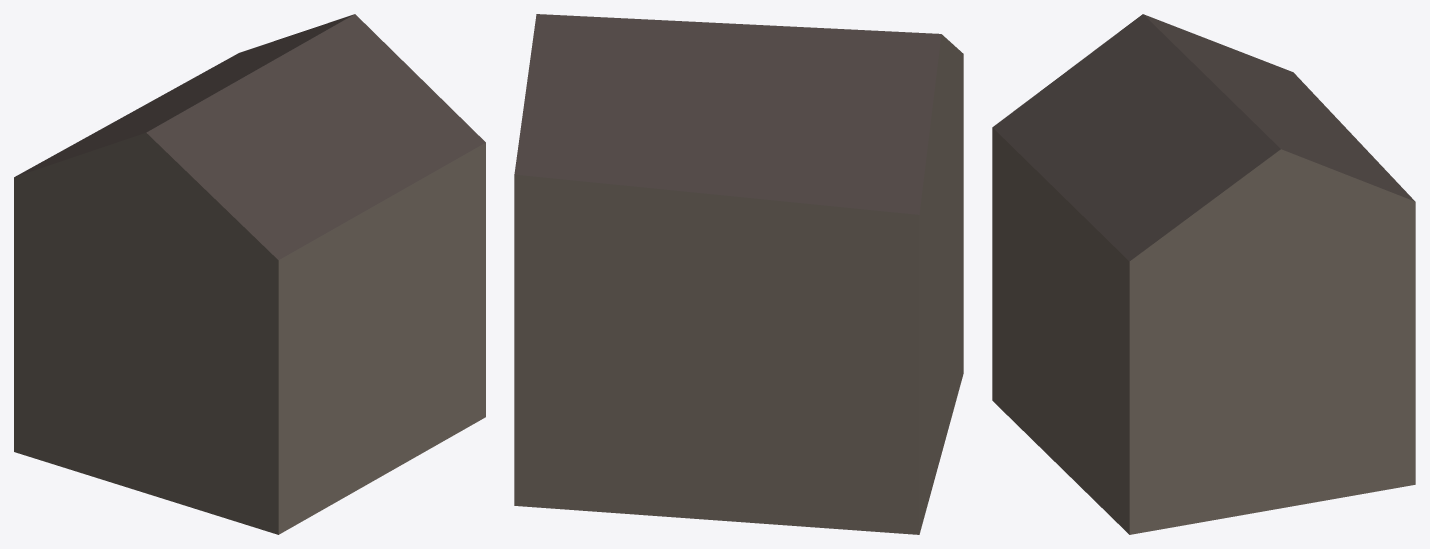
3 renders of one model, left to right at view 1: azimuth 30°, elevation 25°; view 2: azimuth 150°, elevation 25°; view 3: azimuth 270°, elevation 25°, orthographic. The views are drawn at different scales.
Parts seen in each view (by area): view 1: HP-w783664817; view 2: HP-w783664817; view 3: HP-w783664817.
Part boxes in pixels (box(x1,y1,x2,y2)): HP-w783664817: box(14, 14, 485, 534); HP-w783664817: box(514, 14, 963, 534); HP-w783664817: box(992, 14, 1415, 534).
Size of the model in its own units: 8.91 by 7.88 by 8.42.
